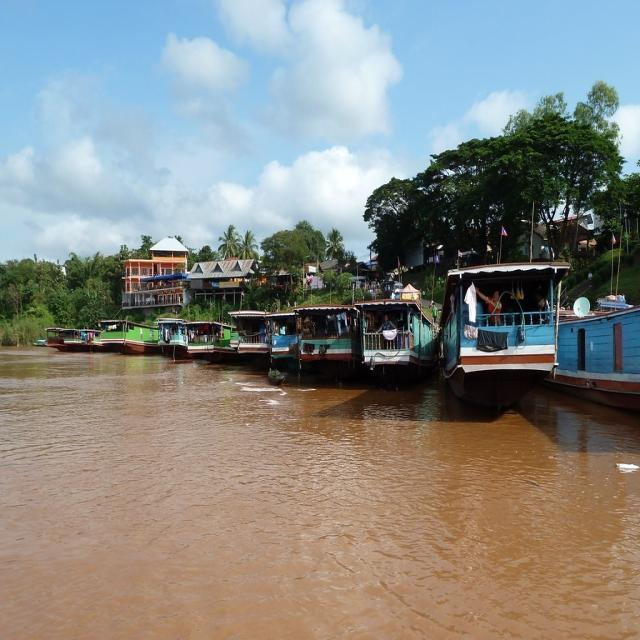boat: (446, 263, 569, 405), (361, 296, 433, 378), (299, 303, 355, 379), (233, 311, 274, 358), (185, 318, 224, 361), (153, 316, 185, 351)
